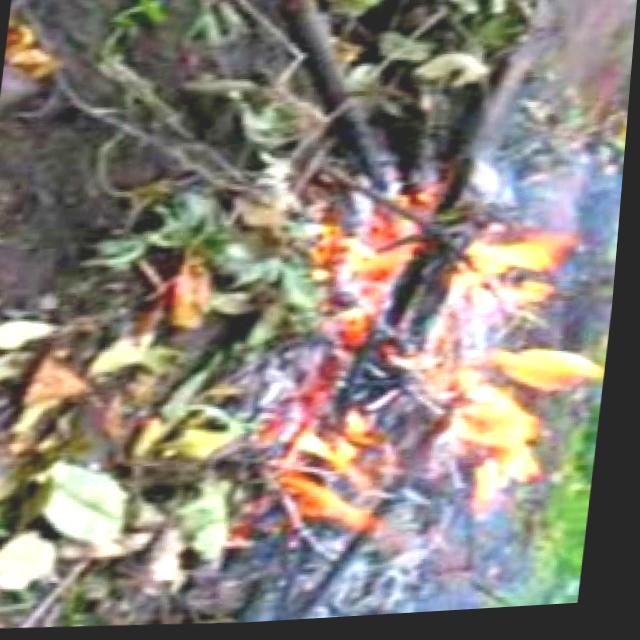helmet: (278, 180, 616, 570)
